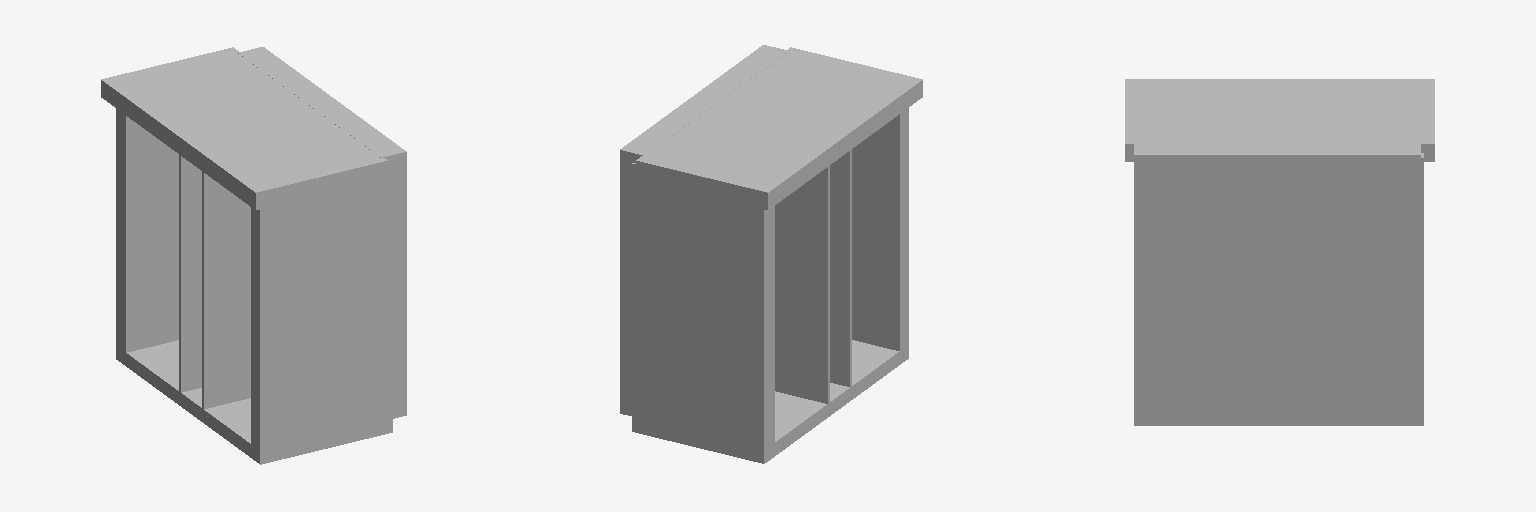
The model's file is SOTO_WAKU.obj.
3 renders of one model, left to right at view 1: azimuth 30°, elevation 25°; view 2: azimuth 150°, elevation 25°; view 3: azimuth 270°, elevation 25°, orthographic.
Visible parts, largest first — view 1: 立方体.009; view 2: 立方体.009; view 3: 立方体.009.
Part boxes in pixels (left/top/right/bottom): 立方体.009: left=101, top=47, right=406, bottom=464; 立方体.009: left=620, top=45, right=922, bottom=463; 立方体.009: left=1125, top=79, right=1434, bottom=425.
Size of the model in its own units: 2.35 by 4.01 by 4.05.